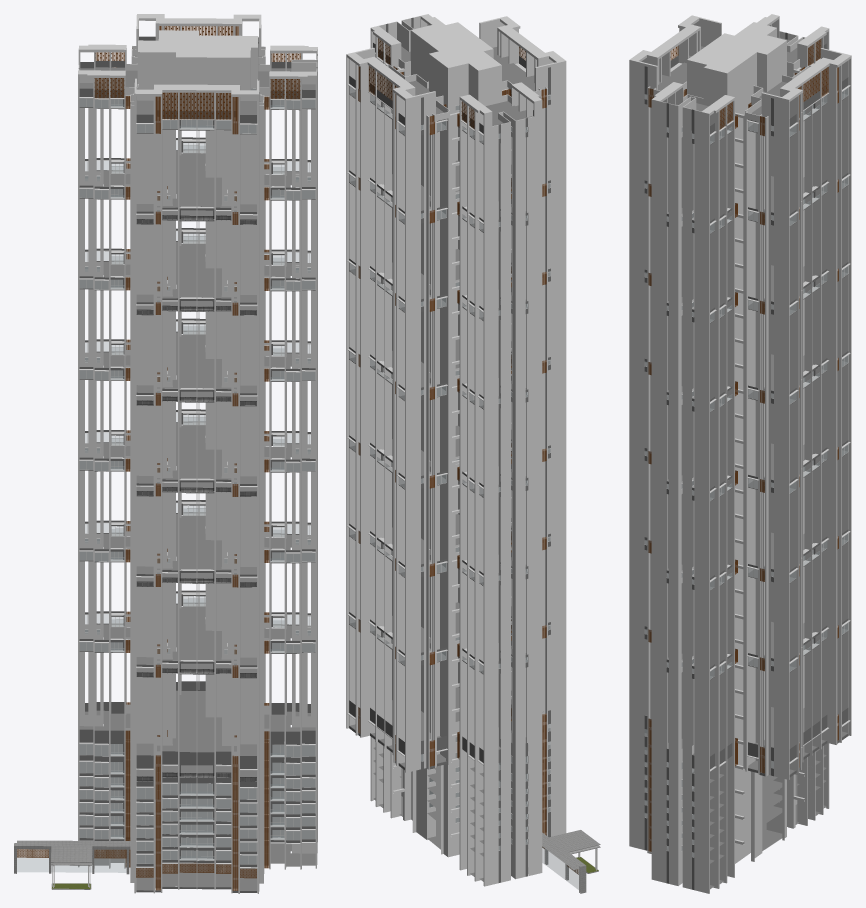
Rendered from 01_SM_T5_Skeleton.glb.
3 views of the same model, side by side, from view 1: azimuth 30°, elevation 25°; view 2: azimuth 150°, elevation 25°; view 3: azimuth 270°, elevation 25° (orthographic). The views are drawn at different scales.
Visible parts, largest first — view 1: SM_Tower_05, SM_Tower_05_RefugeeFloor; view 2: SM_Tower_05, SM_Tower_05_RefugeeFloor; view 3: SM_Tower_05, SM_Tower_05_RefugeeFloor.
Part boxes in pixels (box(x1,y1,x2,y2)): SM_Tower_05: box(14, 14, 317, 893); SM_Tower_05_RefugeeFloor: box(79, 137, 315, 678); SM_Tower_05: box(346, 14, 600, 893); SM_Tower_05_RefugeeFloor: box(347, 160, 550, 674); SM_Tower_05: box(629, 14, 851, 893); SM_Tower_05_RefugeeFloor: box(644, 172, 850, 679).
Bounding box in the file's own units: 3.24 × 9.53 × 2.41.
7 materials, 2 textured.
